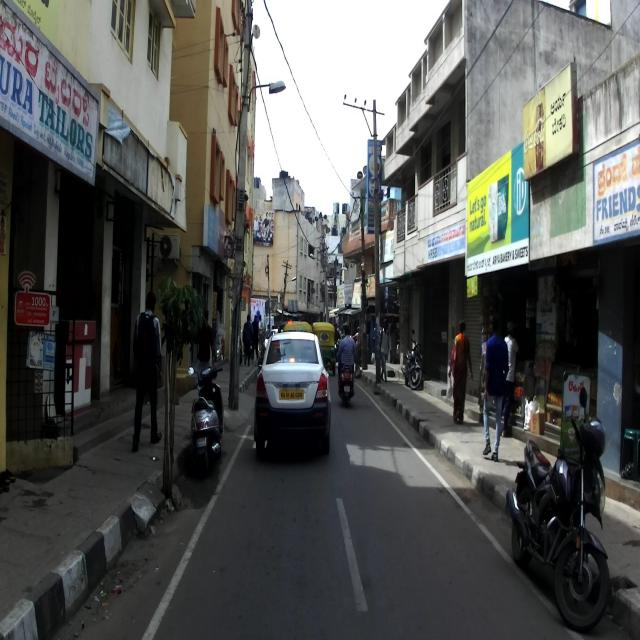Car_Maruti-Suzuki: (253, 331, 332, 458)
motorcycle_Honda: (505, 385, 611, 634)
scooter: (187, 348, 224, 479)
